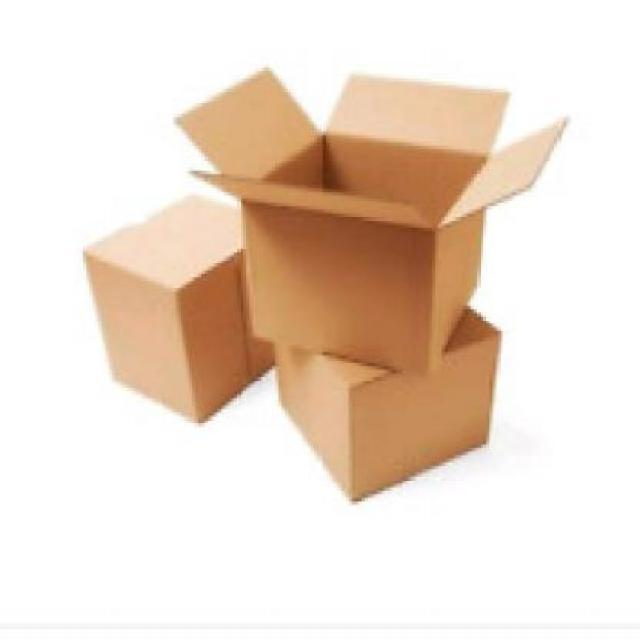box: (176, 71, 542, 366), (271, 303, 506, 502), (90, 189, 272, 422)
